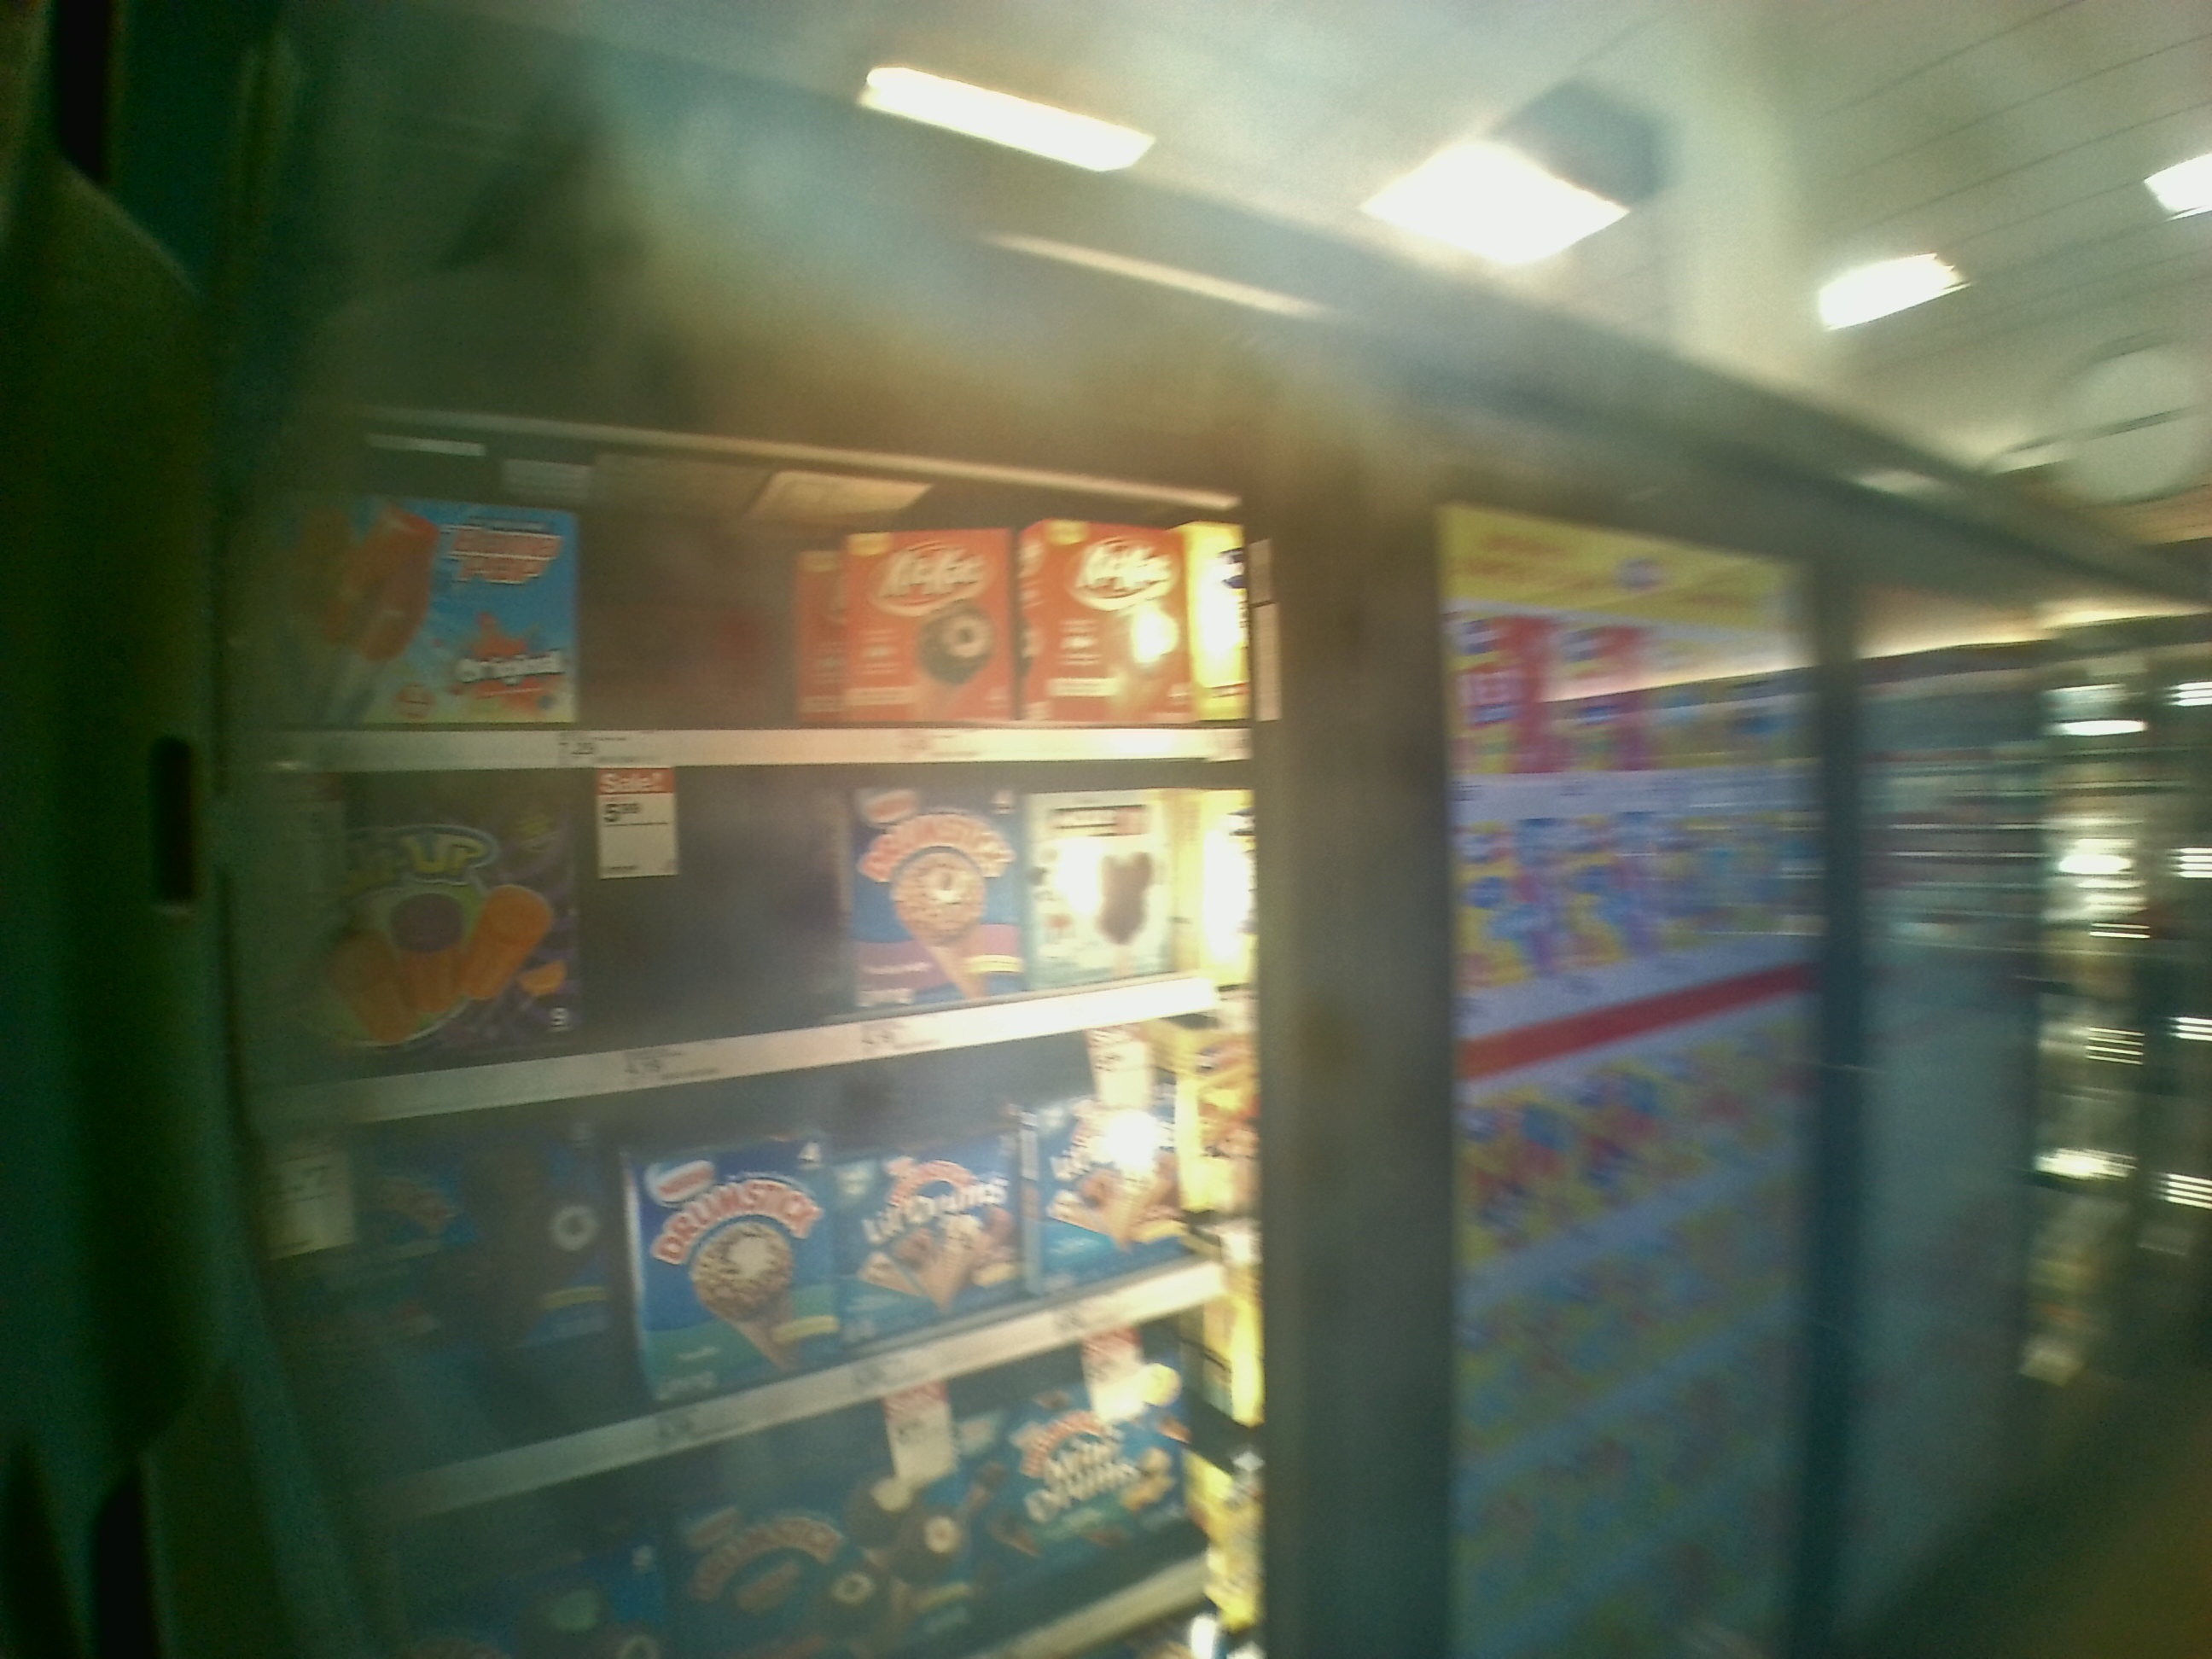shelf: (211, 397, 1264, 763), (212, 767, 1263, 1114)
